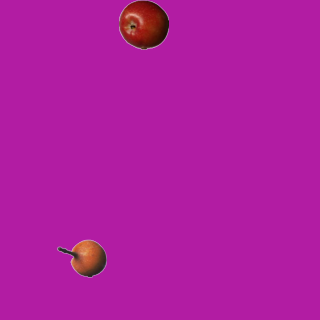Apple Braeburn: (118, 0, 168, 49)
Granadilla: (56, 233, 106, 283)
